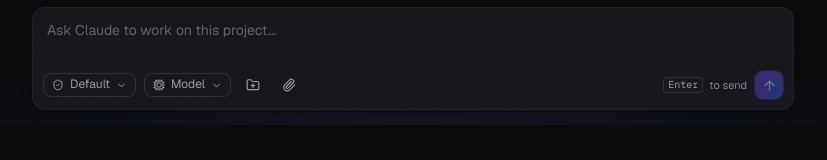
Test: slash popup › Up/Down move aria-activedescendant; Tab and Enter insert "/name " without sending
This screenshot has width=827, height=160.
In the text box named "Message": (413, 38) [33,8,793,67], type "/"
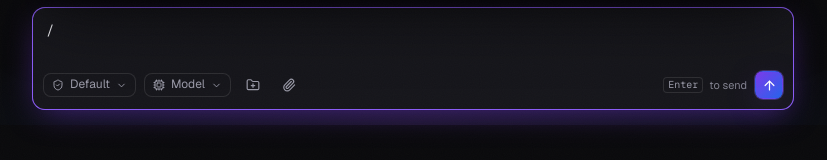
Press Arrowdown
Press Arrowup Arrowup
Press Tab
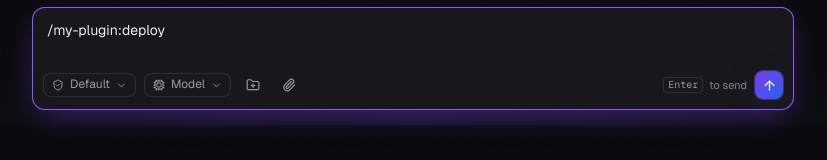
Expected: the text box named "Message" holds "/my-plugin:deploy "
Replace the text in the text box named "Message" with "/rev": (413, 38) [33,8,793,67]
Then press Enter
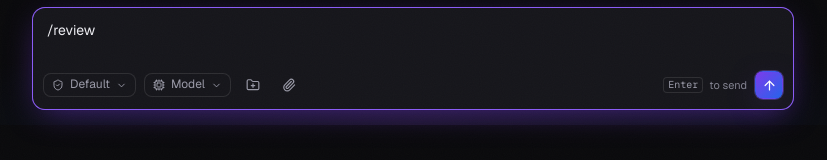
Expected: the text box named "Message" holds "/review ", [33,8,793,67]
